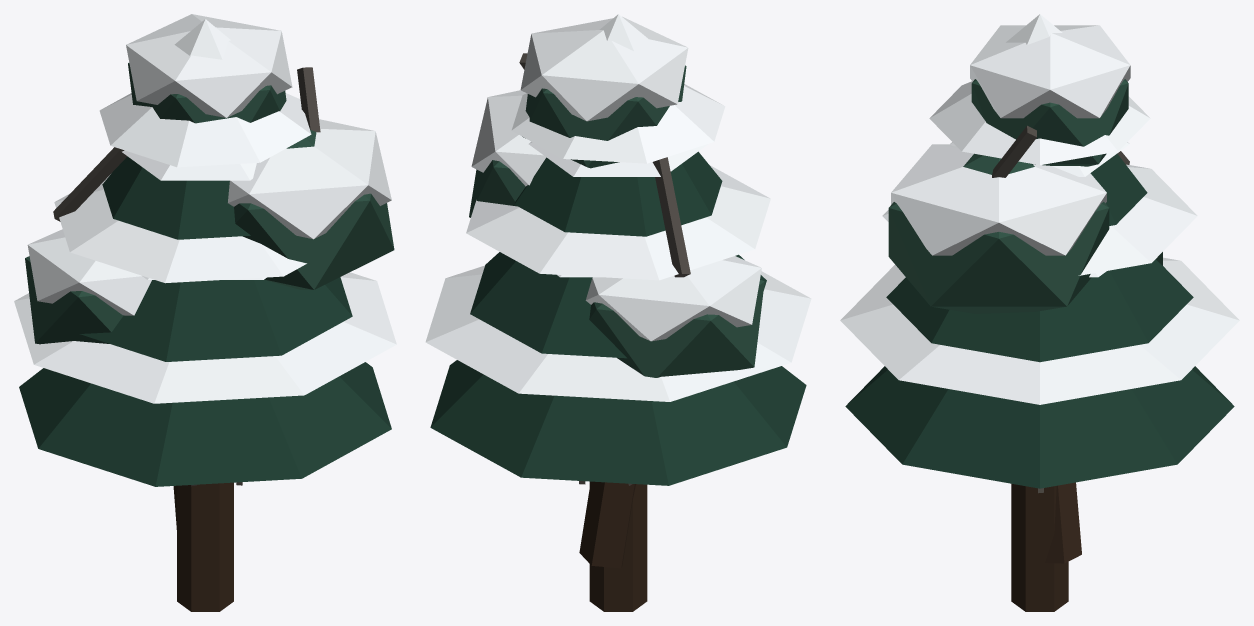
File: alpine_foliage.glb
3 renders of one model, left to right at view 1: azimuth 30°, elevation 25°; view 2: azimuth 150°, elevation 25°; view 3: azimuth 270°, elevation 25°, orthographic.
Parts seen in each view (by area): view 1: Tree_Pine_Tiered, Tree_Pine_Twisted, Tree_Fir_Slender, Tree_Dead_Winter; view 2: Tree_Pine_Tiered, Tree_Pine_Twisted, Tree_Fir_Slender, Tree_Dead_Winter; view 3: Tree_Pine_Tiered, Tree_Pine_Twisted, Tree_Fir_Slender, Tree_Dead_Winter.
Part boxes in pixels (x1,y1,x2,y2): Tree_Pine_Tiered: (14, 93, 396, 611); Tree_Pine_Twisted: (25, 14, 394, 529); Tree_Fir_Slender: (122, 19, 266, 279); Tree_Dead_Winter: (53, 67, 320, 221); Tree_Pine_Tiered: (425, 84, 811, 611); Tree_Pine_Twisted: (469, 16, 764, 568); Tree_Fir_Slender: (528, 14, 708, 277); Tree_Dead_Winter: (519, 53, 690, 277); Tree_Pine_Tiered: (840, 81, 1239, 611); Tree_Pine_Twisted: (888, 25, 1162, 563); Tree_Fir_Slender: (950, 14, 1129, 277); Tree_Dead_Winter: (992, 125, 1129, 177).
Size of the model in its own units: 3.9 by 6.33 by 3.9.
